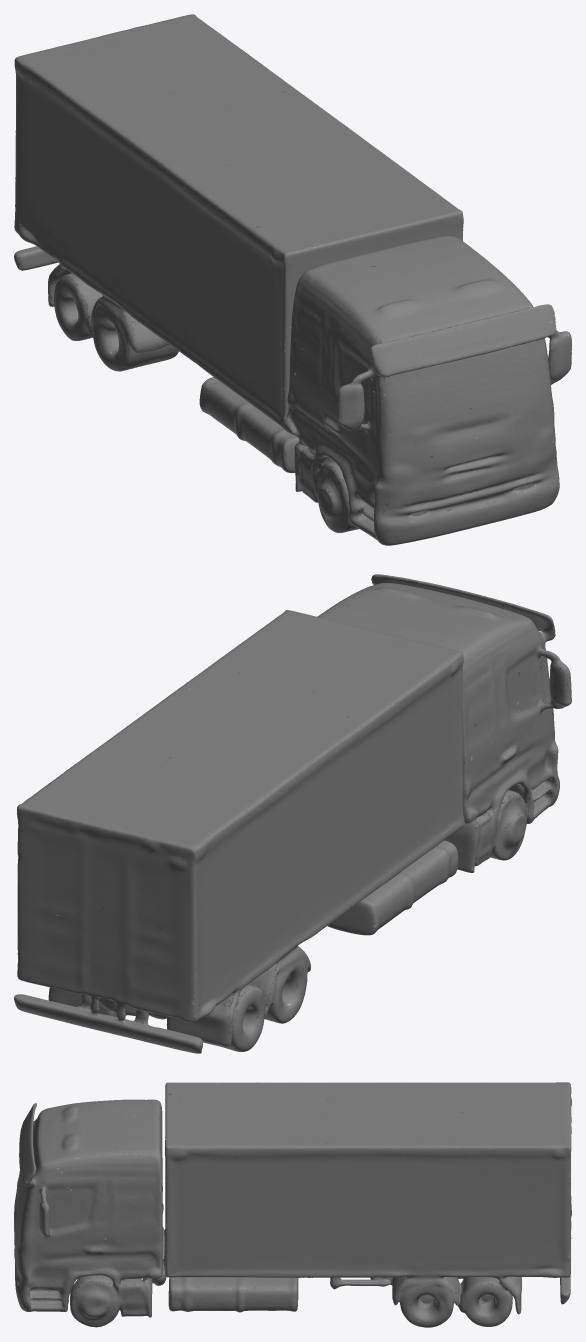
Rendered from truck_grey.glb.
3 views of the same model, one above another, from view 1: azimuth 30°, elevation 25°; view 2: azimuth 150°, elevation 25°; view 3: azimuth 270°, elevation 25° (orthographic). The views are drawn at different scales.
Parts seen in each view (by area): view 1: Mesh_0; view 2: Mesh_0; view 3: Mesh_0.
Part boxes in pixels (x1,y1,x2,y2): Mesh_0: [14, 14, 571, 545]; Mesh_0: [14, 574, 571, 1053]; Mesh_0: [14, 1082, 571, 1327].
Bounding box in the file's own units: 2.9 × 2.88 × 8.
1 material, 1 textured.
